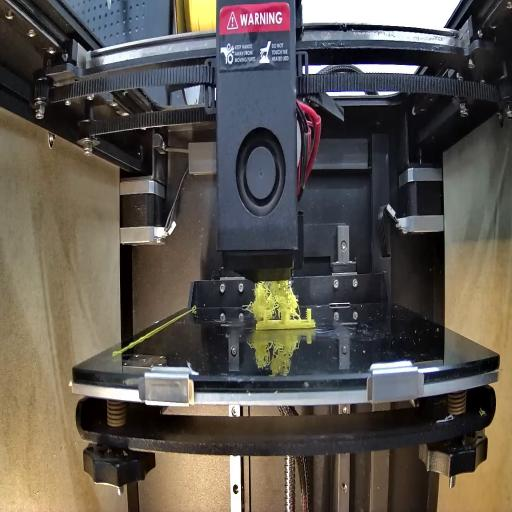spaghetti: (250, 268, 302, 320)
